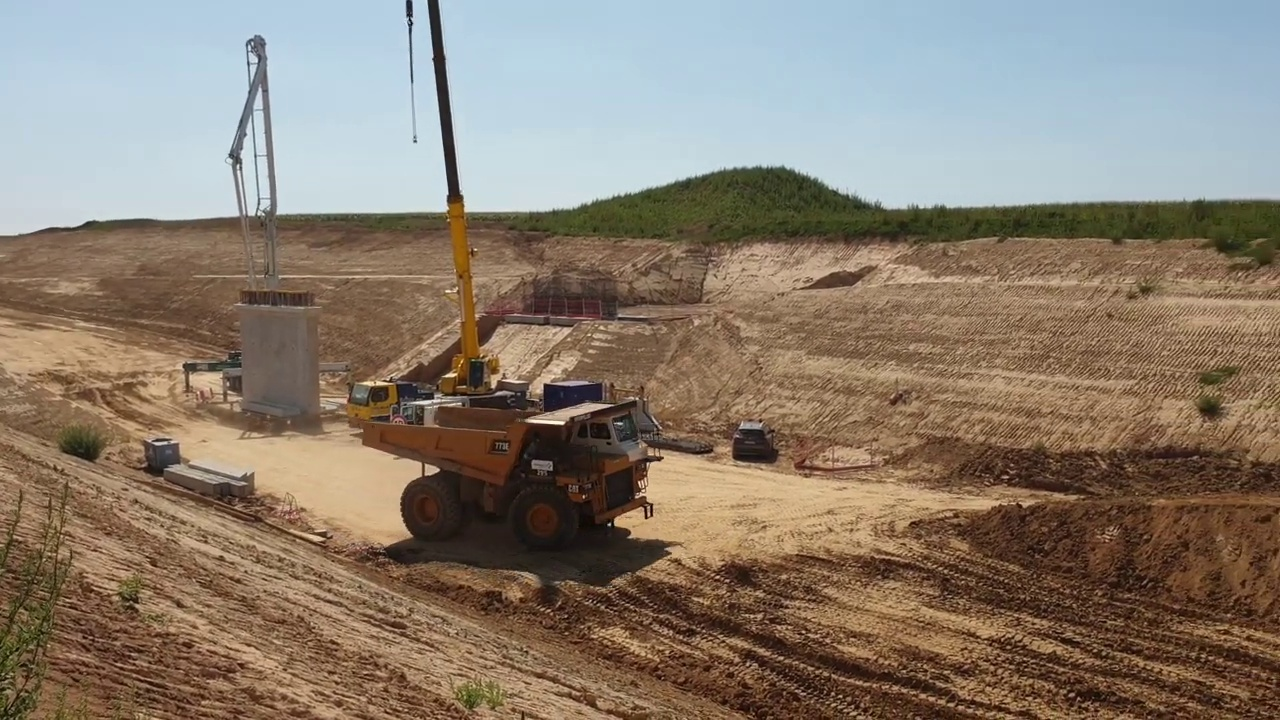crane: (340, 2, 540, 455)
truck: (357, 372, 664, 555)
